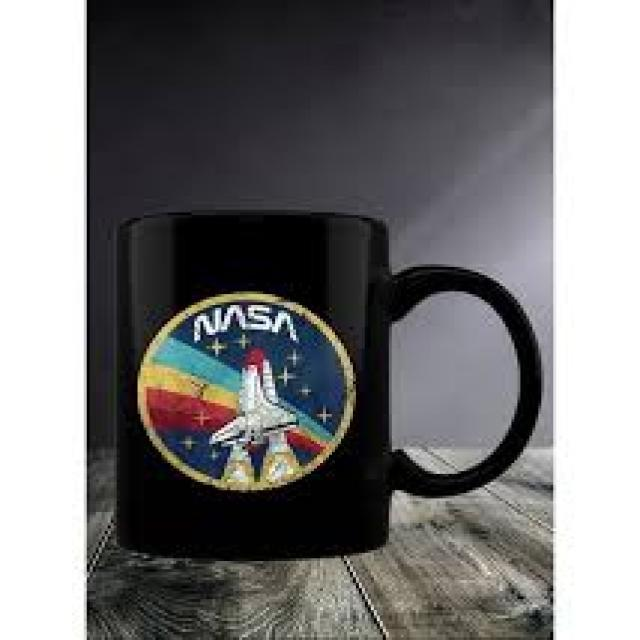taza: (114, 208, 544, 562)
